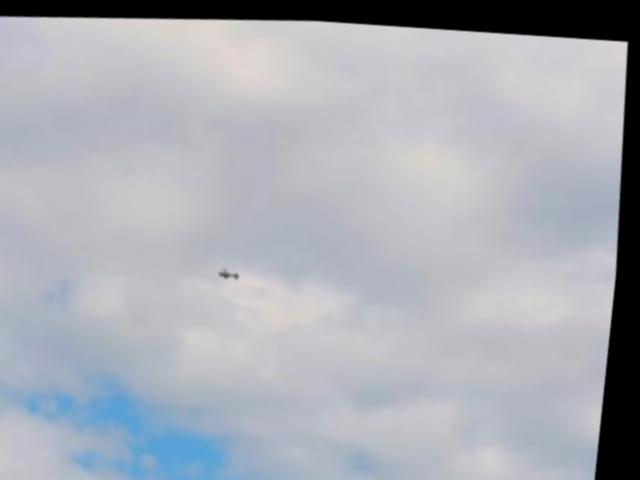uav: (220, 260, 250, 281)
